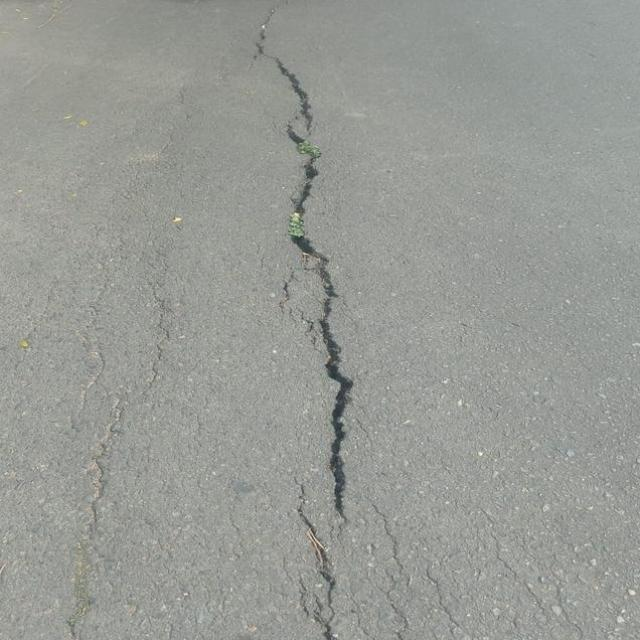Memanjang: (233, 0, 360, 535)
